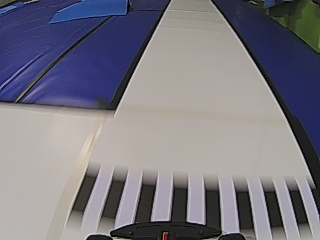CrossWalk: (65, 171, 320, 225)
